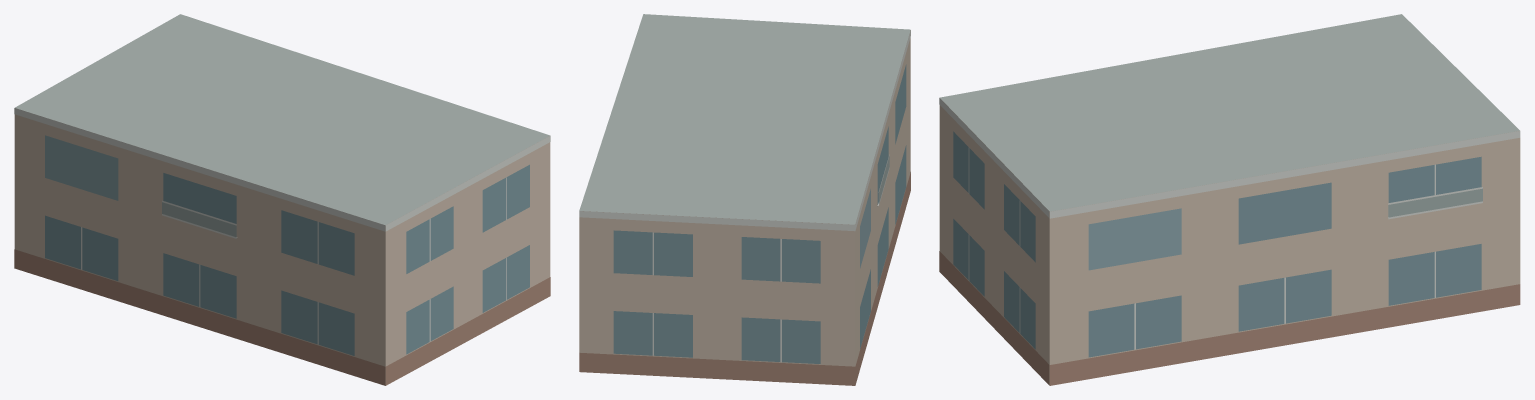
File: survey-upis-32682229.glb
The picture shows the model from 3 angles, left to right: view 1: azimuth 30°, elevation 25°; view 2: azimuth 150°, elevation 25°; view 3: azimuth 270°, elevation 25°; orthographic projection. The views are drawn at different scales.
Visible parts, largest first — view 1: survey-upis-32682229.tmp; view 2: survey-upis-32682229.tmp; view 3: survey-upis-32682229.tmp.
Boxes of the visible parts, x1,y1,x2,y2 form: survey-upis-32682229.tmp: (14, 14, 550, 385); survey-upis-32682229.tmp: (579, 14, 910, 385); survey-upis-32682229.tmp: (939, 14, 1520, 385).
Bounding box in the file's own units: 14.86 × 6.1 × 18.45.
